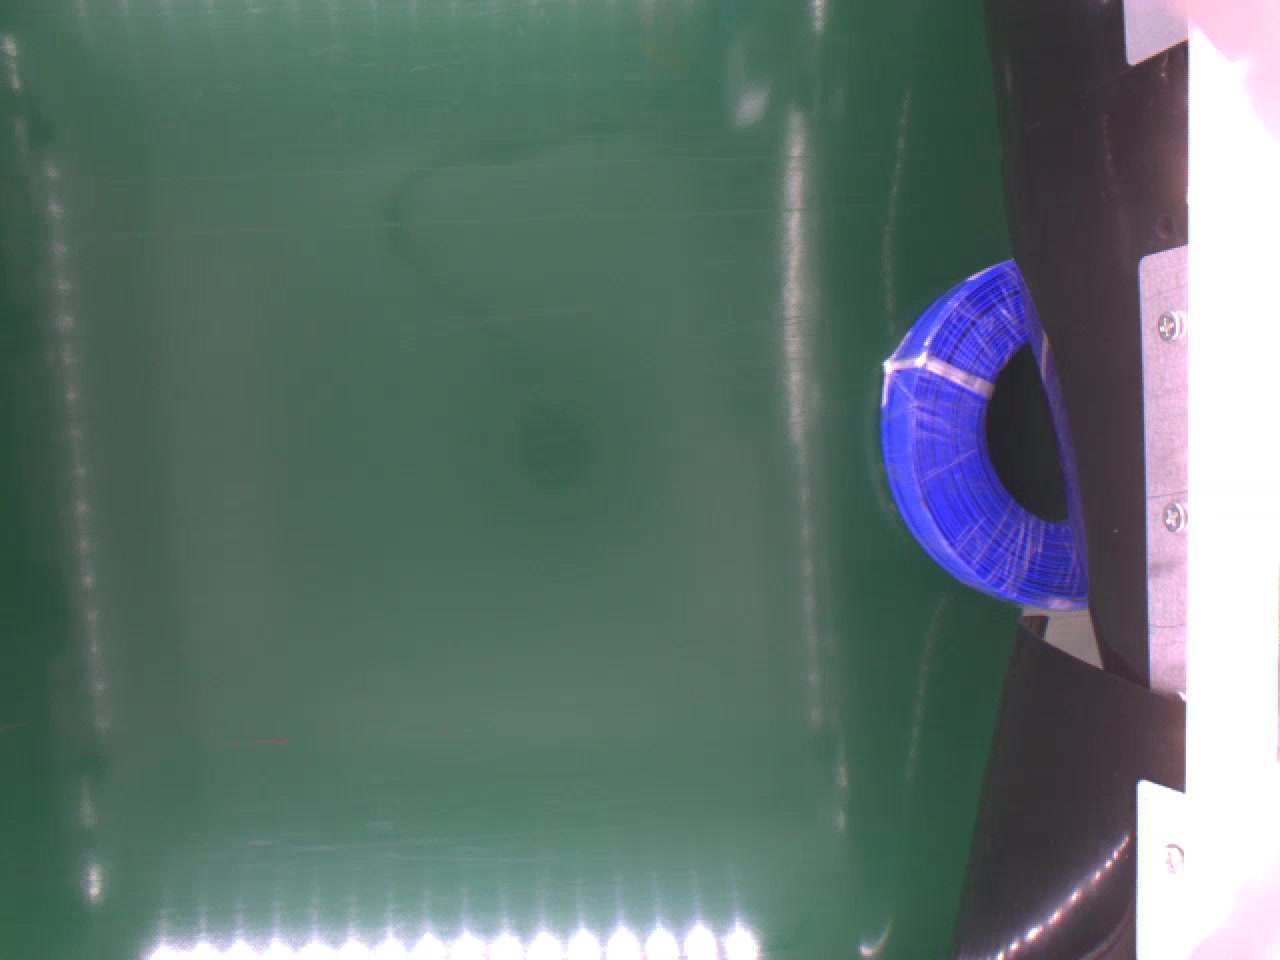blue: (879, 258, 1089, 612)
